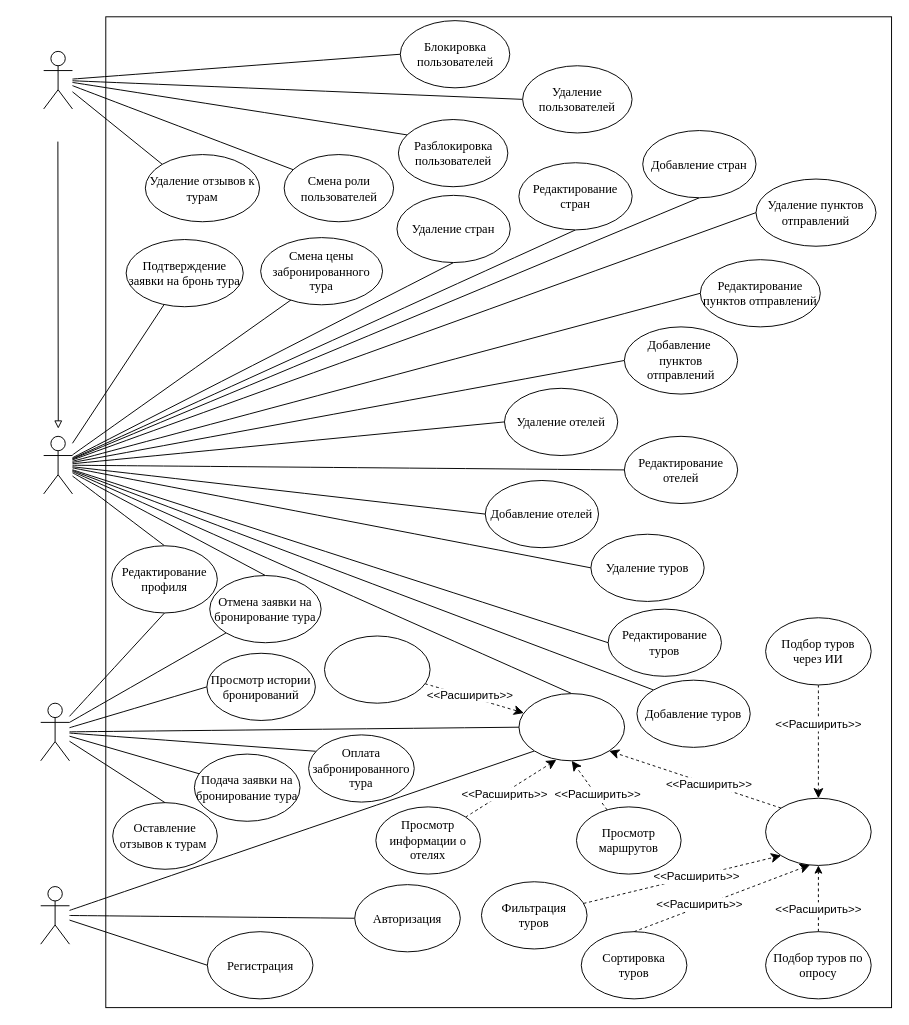
The diagram is 909 pixels wide and 1025 high, and some of its shapes have lost their labels. Each missing label, with the box of its shape:
Администратор: (43, 50, 72, 109)
Гость: (40, 886, 70, 944)
Менеджер: (43, 435, 72, 494)
Подбор туров: (765, 797, 871, 865)
Пользователь: (40, 702, 70, 761)
Просмотр информации о странах: (324, 635, 430, 703)
Просмотр туров: (518, 693, 625, 761)
